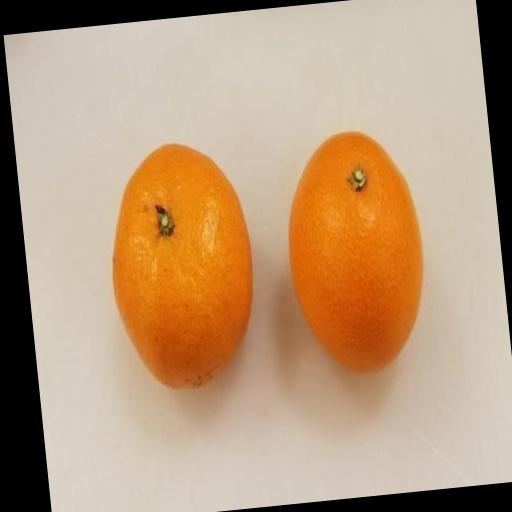fruit: (112, 145, 251, 387), (288, 132, 422, 372)
